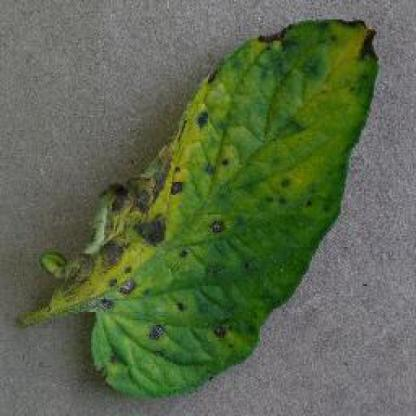Tomato_Blight: (29, 21, 375, 395)
